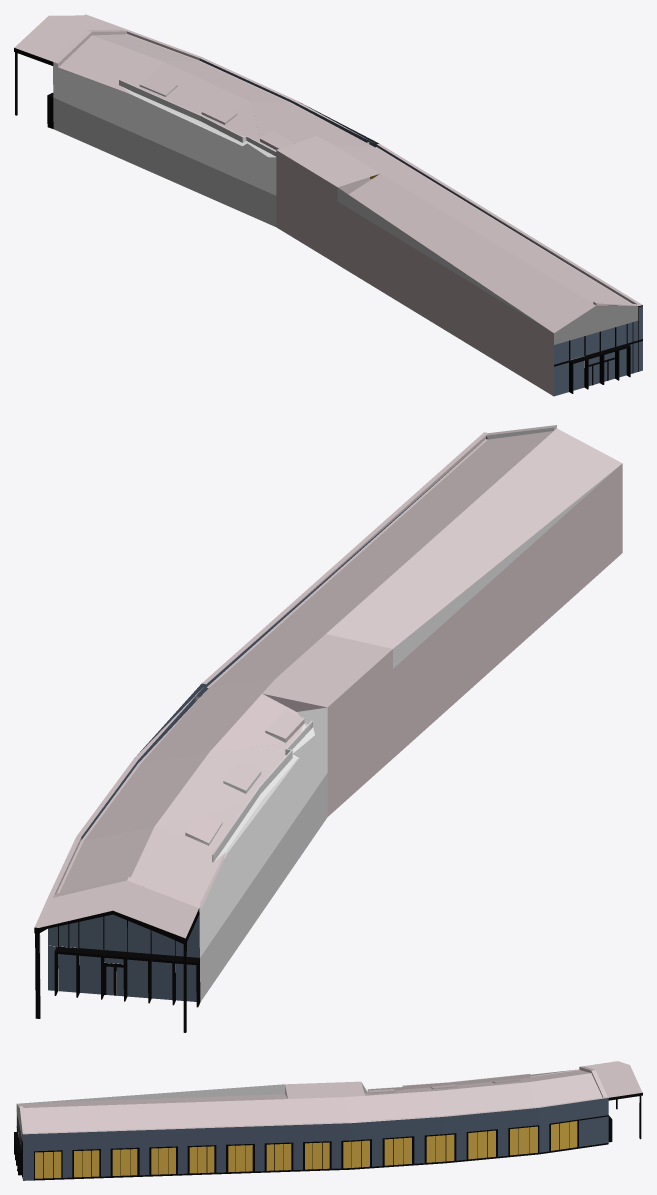
Rendered from K3MidlandsGoodShed.glb.
3 views of the same model, one above another, from view 1: azimuth 30°, elevation 25°; view 2: azimuth 150°, elevation 25°; view 3: azimuth 270°, elevation 25° (orthographic). The views are drawn at different scales.
Visible parts, largest first — view 1: Waitrose .002, Drop1; view 2: Waitrose .002, Drop1; view 3: Waitrose .002, Drop1.
Boxes of the visible parts, x1,y1,x2,y2 form: Waitrose .002: (14, 14, 642, 396); Drop1: (199, 58, 642, 396); Waitrose .002: (34, 425, 622, 1032); Drop1: (48, 436, 487, 1001); Waitrose .002: (14, 1061, 642, 1180); Drop1: (17, 1098, 608, 1180).
Size of the model in its own units: 116 by 43.66 by 426.
